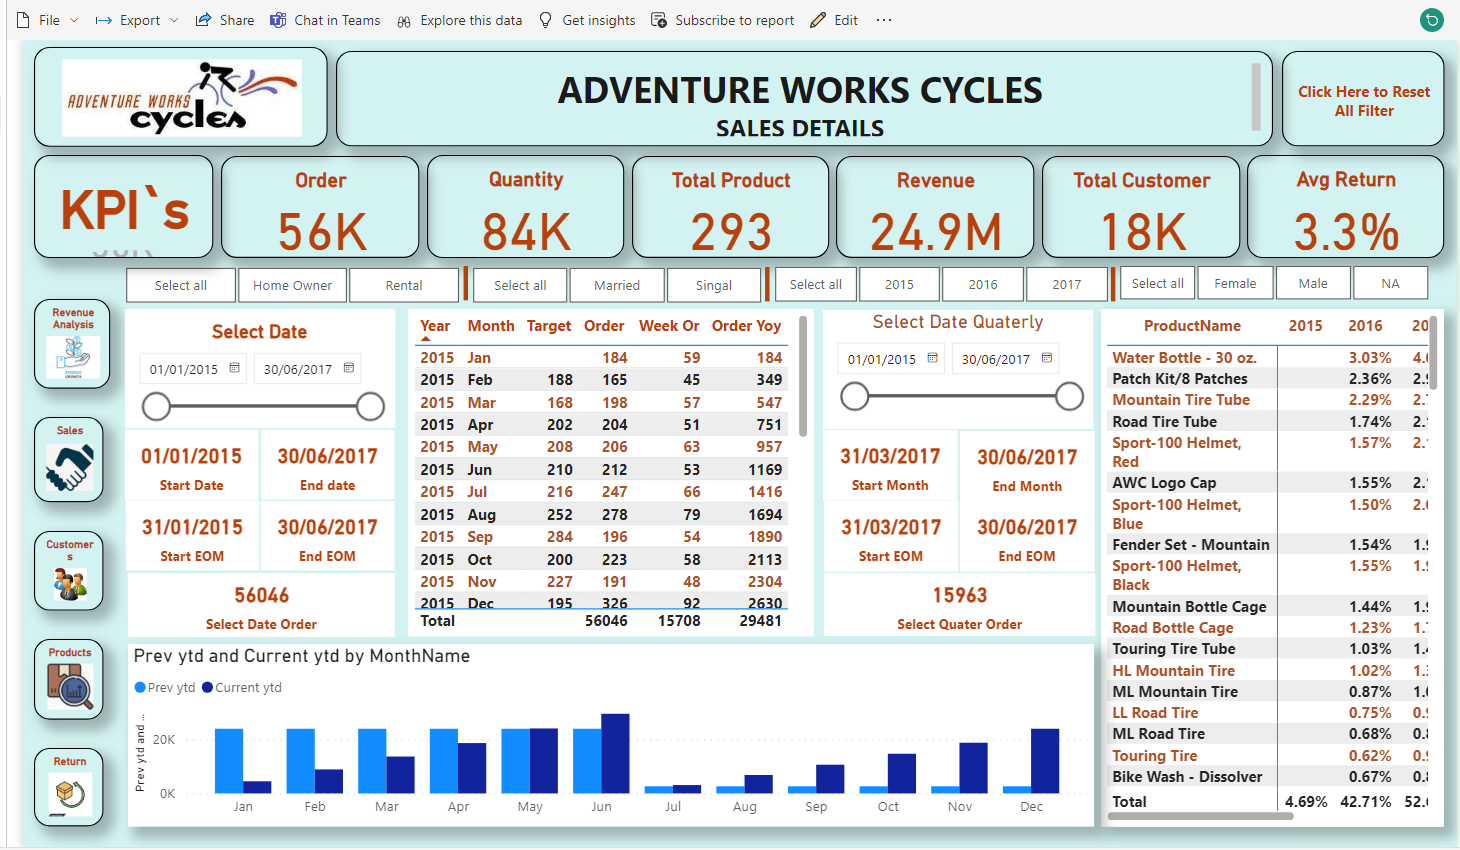

The dashboard page shown, as its layout file describes it:
{"tool":"powerbi","page":{"name":"Sales Order","canvas":[1280,720],"ordinal":1},"visuals":[{"type":"card","title":"Revenue","fields":{"Values":["All Measures.to Revenue"]},"box":[725.5,103.2,176.5,91.4],"z":0},{"type":"card","title":"Order","fields":{"Values":["All Measures.Total Order"]},"box":[177.1,103.2,176.5,91.4],"z":1000},{"type":"card","title":"Quantity","fields":{"Values":["All Measures.Total Quantity"]},"box":[360.5,102.3,175.6,92.3],"z":2000},{"type":"card","title":"Avg Return","fields":{"Values":["All Measures.Avg Return"]},"box":[1092.3,103,175.8,91.6],"z":3000},{"type":"card","title":"Total Product","fields":{"Values":["All Measures.Total Product"]},"box":[543,103.2,175.6,91.4],"z":4000},{"type":"card","title":"Total Customer","fields":{"Values":["All Measures.Total Customer"]},"box":[908.9,103.2,176.5,91.4],"z":5000},{"type":"tableEx","fields":{"Values":["D_Calender.Year","D_Calender.MonthName","All Measures.Month Target","All Measures.Total Order","All Measures.Weekday Order","All Measures.Order MOM"]},"box":[343.3,239.7,361.8,292.4],"z":6000},{"type":"actionButton","box":[1123.2,9.9,144.8,85.1],"z":7000},{"type":"slicer","title":"Select Date","fields":{"Values":["D_Calender.Date"]},"box":[91.3,239.7,240.6,105.9],"z":7000,"group":"g2"},{"type":"textbox","box":[279.3,9.5,836.2,85.5],"z":8000},{"type":"card","fields":{"Values":["All Measures.Edate"]},"box":[212.5,347.3,119,62.2],"z":9000,"group":"g2"},{"type":"image","title":"Products","box":[10,534,62.5,72.4],"z":9000},{"type":"image","title":"Revenue Analysis","box":[10,231.1,68.4,80.2],"z":10000},{"type":"card","fields":{"Values":["All Measures.Select Last 3 Month Order"]},"box":[212.5,411.2,119,62.2],"z":11000,"group":"g2"},{"type":"image","title":"Return","box":[10,631.5,62.4,70.3],"z":11000},{"type":"image","title":"Sales","box":[10,336.4,62.4,76.3],"z":12000},{"type":"slicer","title":"Select Date Quaterly","fields":{"Values":["D_Calender.Date"]},"box":[714.1,240.9,241.1,105.9],"z":13000,"group":"g3"},{"type":"card","fields":{"Values":["All Measures.Select Start month Date"]},"box":[92.6,411.2,119,62.2],"z":13000,"group":"g2"},{"type":"image","title":"Customers","box":[10,437.7,62.4,71.3],"z":13000},{"type":"slicer","fields":{"Values":["D_Customer.MaritalStatus"]},"box":[375.5,196.2,307.1,44.6],"z":14000},{"type":"card","fields":{"Values":["All Measures.Edate"]},"box":[836.2,348.6,120.1,62.7],"z":14000,"group":"g3"},{"type":"slicer","fields":{"Values":["D_Customer.HomeOwner"]},"box":[66.4,196.2,346.7,44.6],"z":15000},{"type":"card","fields":{"Values":["All Measures.Star Date"]},"box":[91.7,347.3,119,63],"z":15000,"group":"g2"},{"type":"card","fields":{"Values":["All Measures.D to D Quaterly"]},"box":[714.4,347.8,120.1,62.7],"z":15000,"group":"g3"},{"type":"slicer","fields":{"Values":["D_Customer.Gender"]},"box":[953.2,194.6,325,44.4],"z":16000},{"type":"card","fields":{"Values":["All Measures.DtoD End Date"]},"box":[715.2,411.3,120.1,62.7],"z":16000,"group":"g3"},{"type":"slicer","fields":{"Values":["D_Calender.Year"]},"box":[645,195.2,346.7,44.6],"z":17000},{"type":"card","fields":{"Values":["All Measures.Select Last 3 Month Order"]},"box":[835.9,411.1,120.1,62.7],"z":17000,"group":"g3"},{"type":"card","fields":{"Values":["All Measures.Date Order Value"]},"box":[93.9,475.5,238,56.6],"z":17000,"group":"g2"},{"type":"image","box":[10,6.2,261.6,88.7],"z":18000},{"type":"card","fields":{"Values":["All Measures.Select Quater Value"]},"box":[715,475.3,242.3,56.3],"z":18000,"group":"g3"},{"type":"shape","box":[376.6,201.9,37.1,30.8],"z":19000},{"type":"shape","box":[954.1,202.1,37.6,30.7],"z":20000},{"type":"shape","box":[645.4,202.8,38,30.8],"z":21000},{"type":"advanceCardE03760C5AB684758B56AA29F9E6C257B","title":"KPI`s","fields":{"mainMeasure":["All Measures.Total Order"]},"box":[10,102.3,160.2,92.3],"z":22000},{"type":"group","id":"g1","title":"Group 2","box":[714.1,240.9,243.2,290.6],"z":23000},{"type":"pivotTable","fields":{"Rows":["D_Product.ProductName"],"Columns":["D_Calender.Year"],"Values":["All Measures.Total Order"]},"box":[962.1,239.9,306,461.7],"z":24000},{"type":"lineClusteredColumnComboChart","fields":{"Category":["D_Calender.MonthName"],"Y":["All Measures.Prev ytd","All Measures.Current ytd"]},"box":[94,538.5,862.2,163.3],"z":25000},{"type":"group","id":"g2","title":"Group 1","box":[91.3,239.7,240.6,292.4],"z":26000},{"type":"group","id":"g3","title":"Group 3","box":[714.1,240.9,243.2,290.6],"z":30003,"group":"g1"}]}

Visuals, with their boxes on the page's 1280x720 design canvas (x1, y1, x2, y2). These are canvas units, not pixel positions in the 1460x850 screenshot, which may show the page scaled, cropped or inside an application window:
"Revenue" card: 726, 103, 902, 195
"Order" card: 177, 103, 354, 195
"Quantity" card: 360, 102, 536, 195
"Avg Return" card: 1092, 103, 1268, 195
"Total Product" card: 543, 103, 719, 195
"Total Customer" card: 909, 103, 1085, 195
tableEx - D_Calender.Year x D_Calender.MonthName: 343, 240, 705, 532
actionButton: 1123, 10, 1268, 95
"Select Date" slicer: 91, 240, 332, 346
textbox: 279, 10, 1116, 95
card - All Measures.Edate: 212, 347, 332, 410
"Products" image: 10, 534, 72, 606
"Revenue Analysis" image: 10, 231, 78, 311
card - All Measures.Select Last 3 Month Order: 212, 411, 332, 473
"Return" image: 10, 632, 72, 702
"Sales" image: 10, 336, 72, 413
"Select Date Quaterly" slicer: 714, 241, 955, 347
card - All Measures.Select Start month Date: 93, 411, 212, 473
"Customers" image: 10, 438, 72, 509
slicer - D_Customer.MaritalStatus: 376, 196, 683, 241
card - All Measures.Edate: 836, 349, 956, 411
slicer - D_Customer.HomeOwner: 66, 196, 413, 241
card - All Measures.Star Date: 92, 347, 211, 410
card - All Measures.D to D Quaterly: 714, 348, 834, 410
slicer - D_Customer.Gender: 953, 195, 1278, 239
card - All Measures.DtoD End Date: 715, 411, 835, 474
slicer - D_Calender.Year: 645, 195, 992, 240
card - All Measures.Select Last 3 Month Order: 836, 411, 956, 474
card - All Measures.Date Order Value: 94, 476, 332, 532
image: 10, 6, 272, 95
card - All Measures.Select Quater Value: 715, 475, 957, 532
shape: 377, 202, 414, 233
shape: 954, 202, 992, 233
shape: 645, 203, 683, 234
"KPI`s" advanceCardE03760C5AB684758B56AA29F9E6C257B: 10, 102, 170, 195
"Group 2" group: 714, 241, 957, 532
pivotTable - D_Product.ProductName x D_Calender.Year: 962, 240, 1268, 702
lineClusteredColumnComboChart - D_Calender.MonthName x All Measures.Prev ytd: 94, 538, 956, 702
"Group 1" group: 91, 240, 332, 532
"Group 3" group: 714, 241, 957, 532
